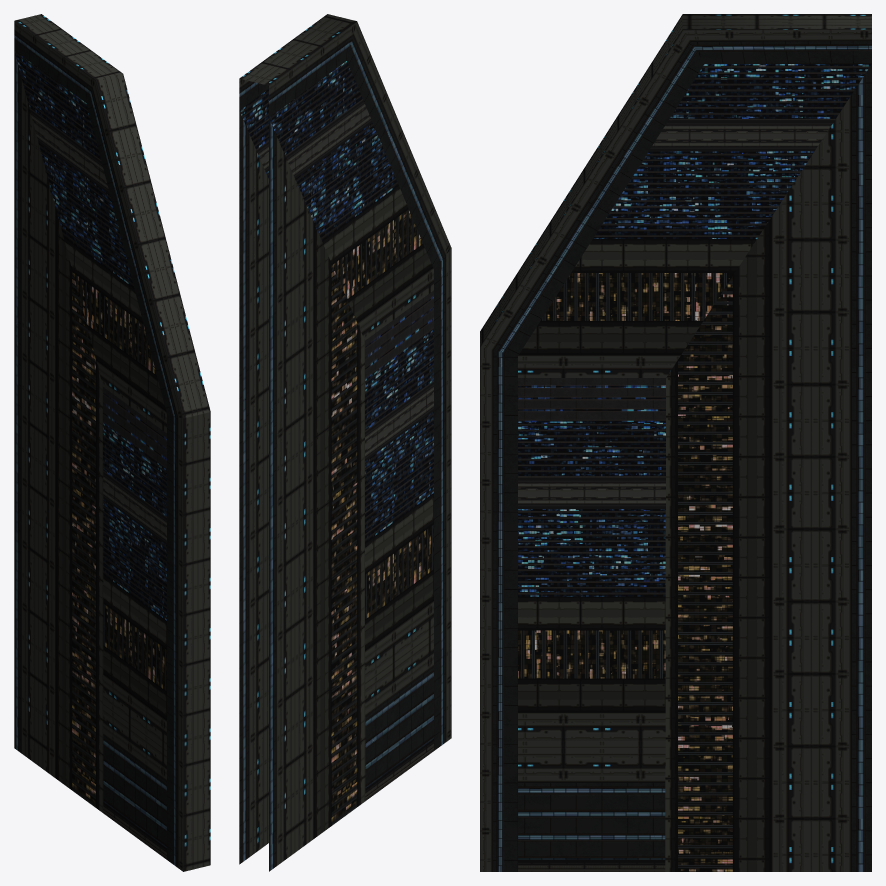
Rendered from Ultra_Addon10.fbx.
3 renders of one model, left to right at view 1: azimuth 30°, elevation 25°; view 2: azimuth 150°, elevation 25°; view 3: azimuth 270°, elevation 25°, orthographic. The views are drawn at different scales.
Visible parts, largest first — view 1: pPlane24; view 2: pPlane24; view 3: pPlane24.
Boxes of the visible parts, x1,y1,x2,y2 form: pPlane24: (14, 14, 210, 871); pPlane24: (239, 14, 451, 871); pPlane24: (480, 14, 871, 871).
Size of the model in its own units: 1.45 by 36.77 by 15.5.
1 material, 1 textured.
